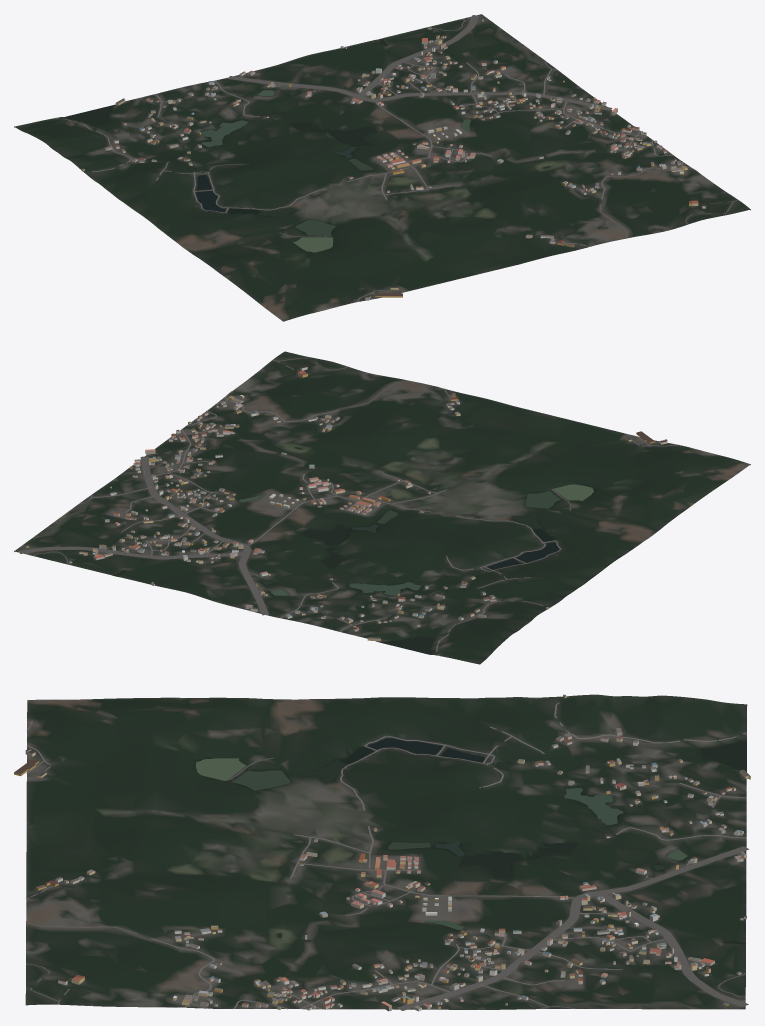
The picture shows the model from 3 angles, top to bottom: view 1: azimuth 30°, elevation 25°; view 2: azimuth 150°, elevation 25°; view 3: azimuth 270°, elevation 25°; orthographic projection. The views are drawn at different scales.
Parts seen in each view (by area): view 1: ground, buildings, roads, water; view 2: ground, buildings, roads, water; view 3: ground, buildings, roads, water.
Boxes of the visible parts, left/top/right/bottom form: ground: left=14, top=14, right=750, bottom=321; buildings: left=81, top=19, right=705, bottom=300; roads: left=55, top=15, right=738, bottom=309; water: left=66, top=38, right=550, bottom=252; ground: left=14, top=351, right=750, bottom=664; buildings: left=25, top=366, right=667, bottom=641; roads: left=19, top=358, right=713, bottom=655; water: left=114, top=447, right=593, bottom=653; ground: left=25, top=694, right=747, bottom=1009; buildings: left=14, top=694, right=750, bottom=1011; roads: left=26, top=702, right=749, bottom=1010; water: left=196, top=738, right=746, bottom=944.
Bounding box in the file's own units: 1409 × 35.7 × 1435.
